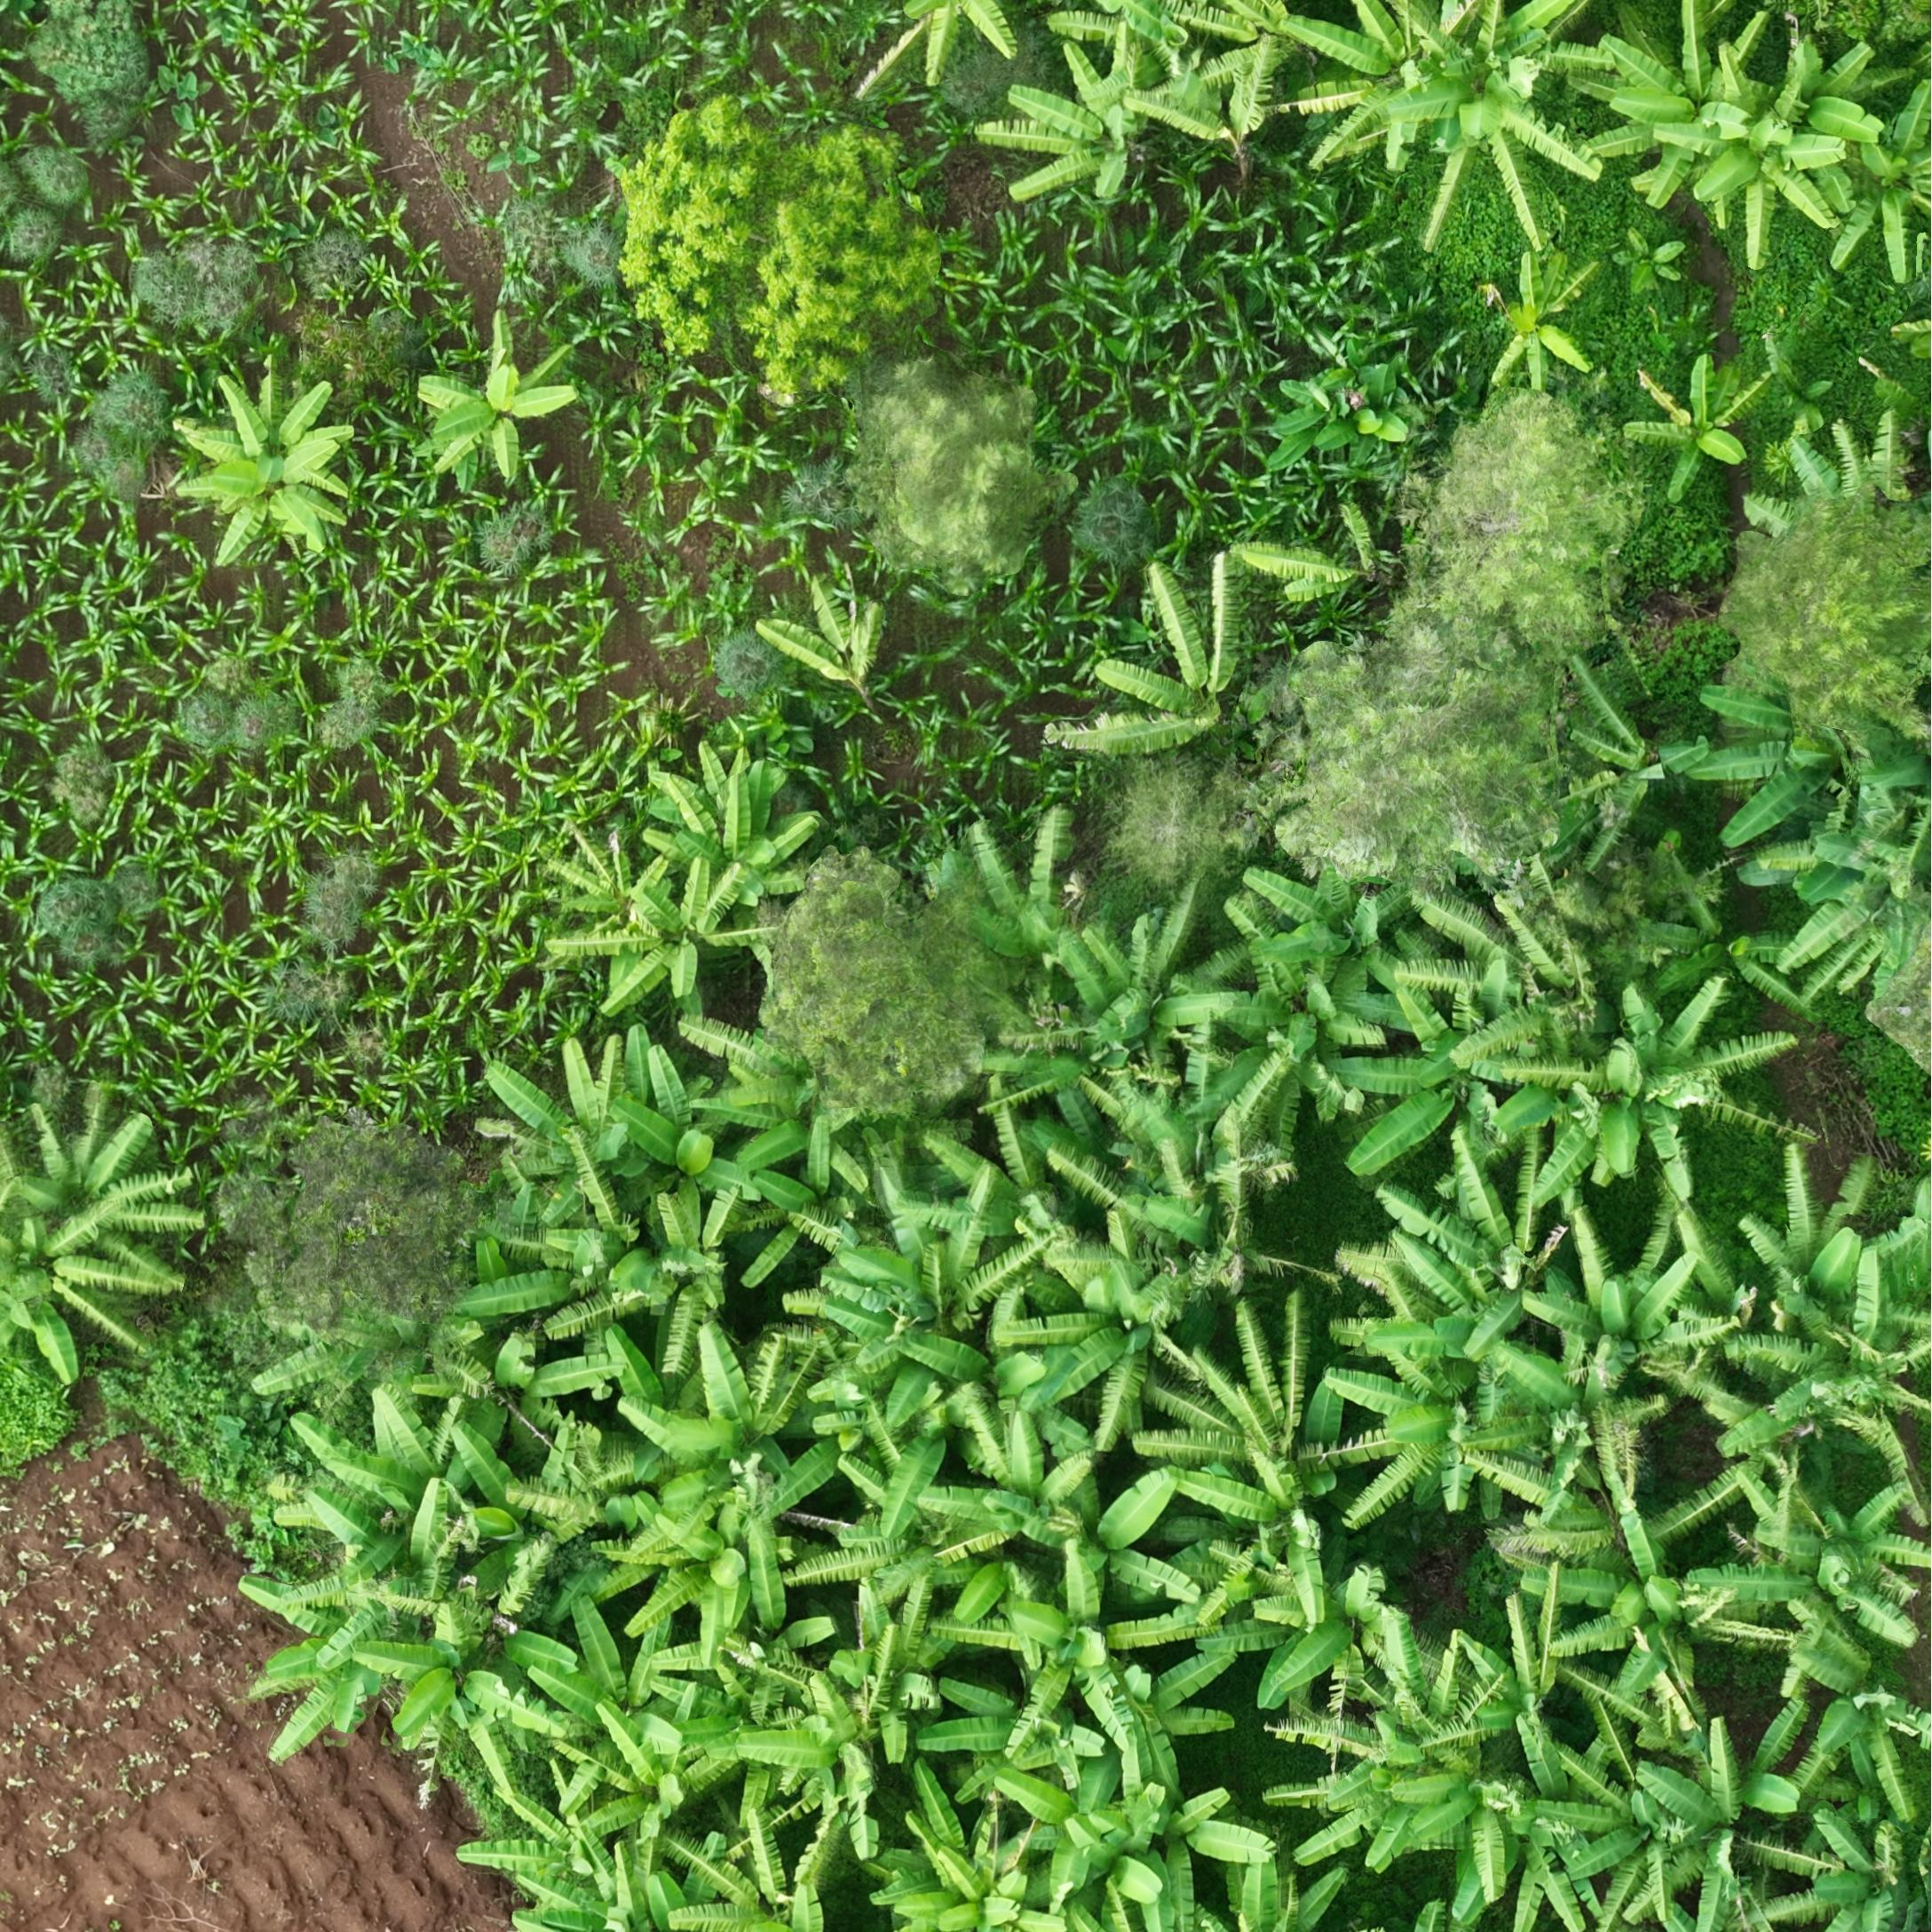Banana: (295, 1454, 617, 1668), (152, 373, 428, 617), (1067, 568, 1327, 814), (837, 1148, 1118, 1369), (653, 727, 863, 966), (1778, 1161, 1932, 1484), (835, 1380, 1120, 1552), (1194, 1399, 1453, 1562), (234, 1619, 426, 1835), (1290, 893, 1511, 1079), (1569, 1293, 1785, 1472), (970, 840, 1145, 1060), (1748, 665, 1932, 867), (1750, 1513, 1932, 1713), (508, 1088, 697, 1279), (1097, 947, 1293, 1131), (525, 1700, 755, 1856), (1605, 678, 1759, 895), (1507, 237, 1681, 421), (791, 1730, 964, 1893), (780, 594, 957, 752), (1320, 1617, 1488, 1773), (984, 1734, 1159, 1867), (1304, 380, 1495, 495), (892, 2, 1083, 111), (1688, 1822, 1877, 1932), (1407, 1730, 1564, 1842), (1828, 1727, 1932, 1859)
